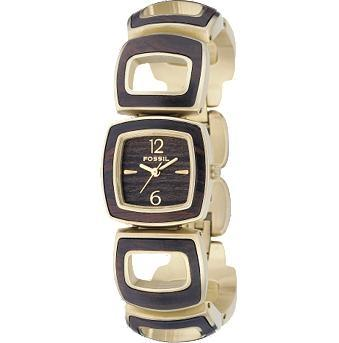watch: (90, 74, 225, 276)
